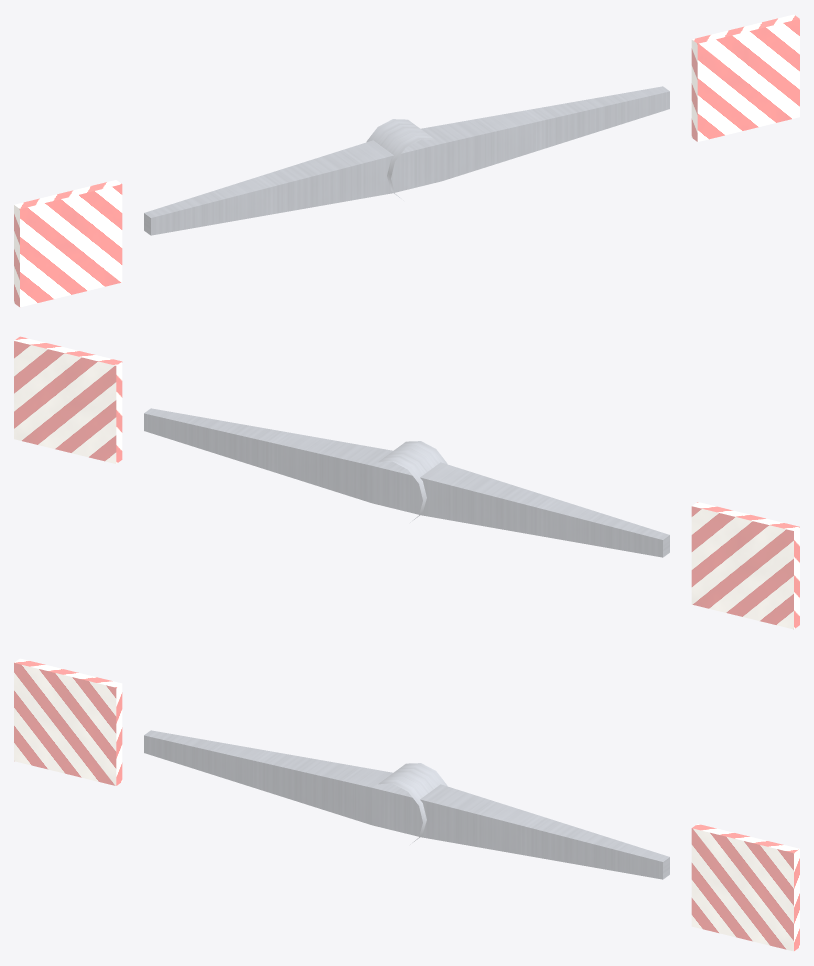
Rendered from level.gltf.
The picture shows the model from 3 angles, top to bottom: view 1: azimuth 30°, elevation 25°; view 2: azimuth 150°, elevation 25°; view 3: azimuth 330°, elevation 25°; orthographic projection.
Parts seen in each view (by area): view 1: Modul17_Dreharme; view 2: Modul17_Dreharme; view 3: Modul17_Dreharme.
Boxes of the visible parts, <box> form: Modul17_Dreharme: <box>14,14,799,307</box>; Modul17_Dreharme: <box>14,336,799,629</box>; Modul17_Dreharme: <box>14,658,799,951</box>.
Size of the model in its own units: 23.24 by 2.8 by 1.46.
Materials: 3 (3 with a texture image).
